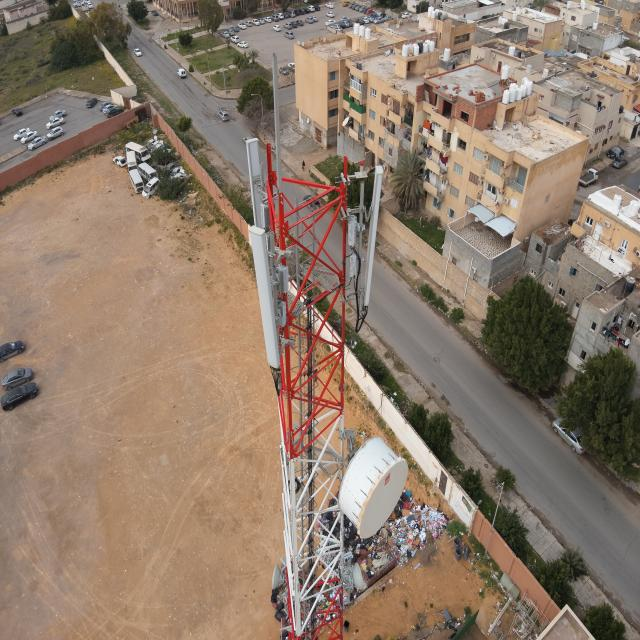Ground Based: (240, 49, 412, 640)
